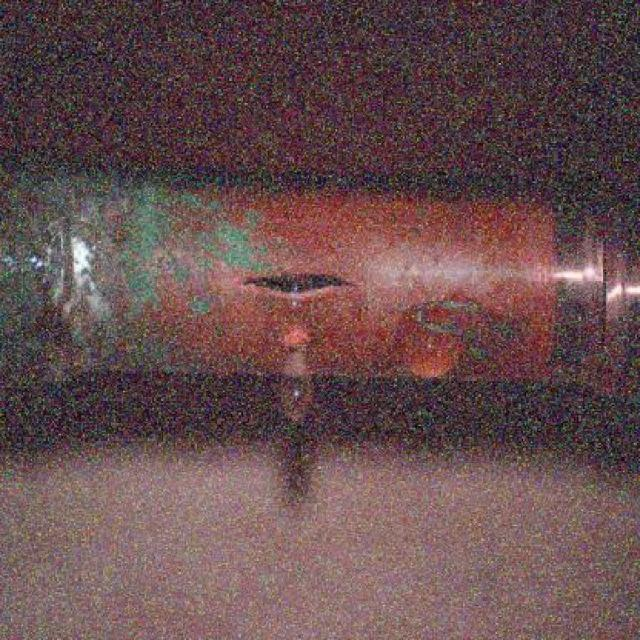Hole: (228, 245, 379, 324)
